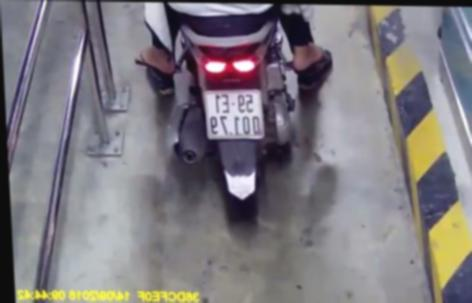License_Plate: (195, 84, 276, 152)
